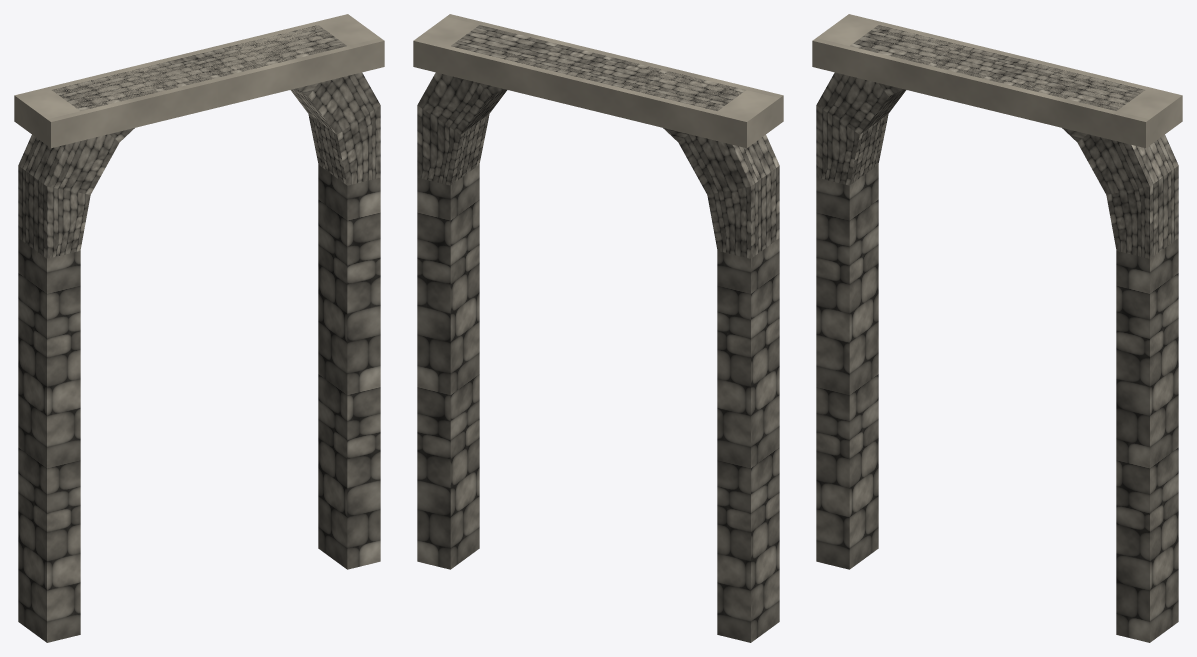
File: Bridge_Stone_Arch_1_LOD1.gltf
The picture shows the model from 3 angles, left to right: view 1: azimuth 30°, elevation 25°; view 2: azimuth 150°, elevation 25°; view 3: azimuth 330°, elevation 25°; orthographic projection.
Visible parts, largest first — view 1: Bridge_Stone_Arch_1_LOD1; view 2: Bridge_Stone_Arch_1_LOD1; view 3: Bridge_Stone_Arch_1_LOD1.
Boxes of the visible parts, x1,y1,x2,y2 form: Bridge_Stone_Arch_1_LOD1: (14,14,384,642); Bridge_Stone_Arch_1_LOD1: (413,14,783,642); Bridge_Stone_Arch_1_LOD1: (812,14,1182,642).
Size of the model in its own units: 2 by 3 by 0.38.
2 materials, 2 textured.
